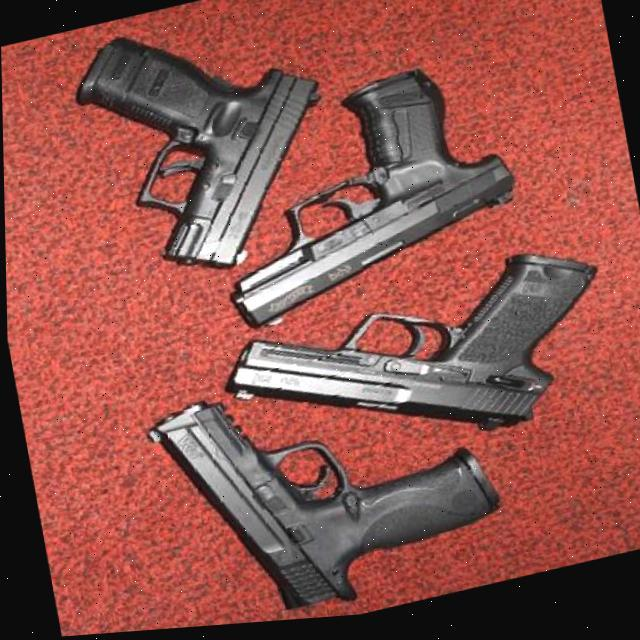gun: (136, 343, 512, 632), (210, 249, 618, 496), (200, 56, 526, 345), (65, 2, 348, 300)
